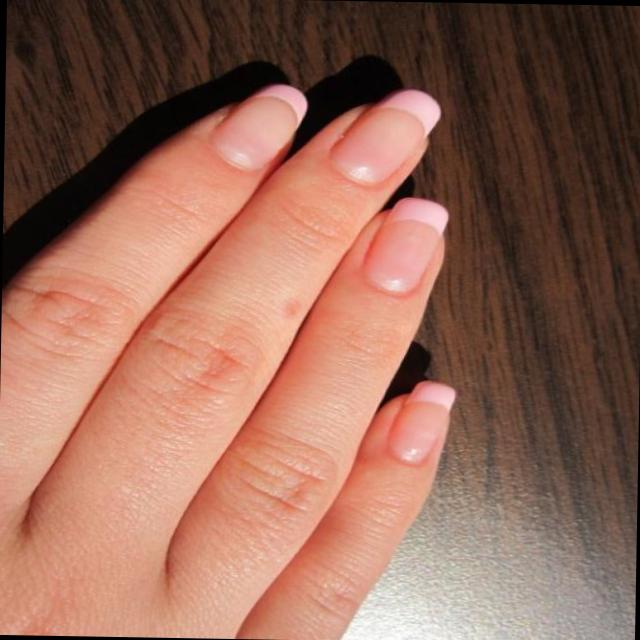Nail: (329, 89, 439, 184), (360, 197, 447, 294), (210, 84, 306, 171), (386, 380, 454, 463)
